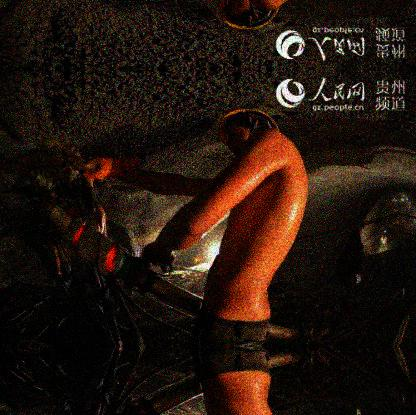helmet: (219, 107, 280, 158)
